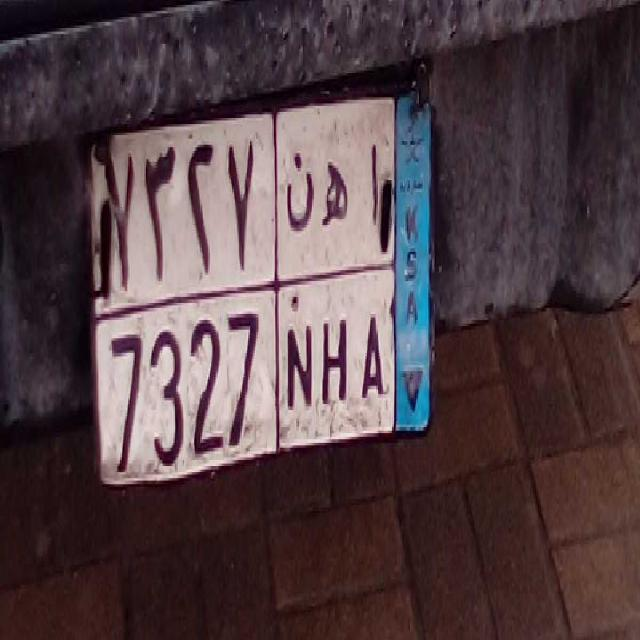license_plate: (104, 294, 393, 491)
